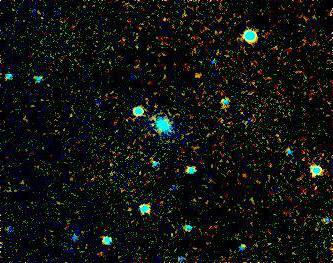star: (184, 59, 214, 89)
